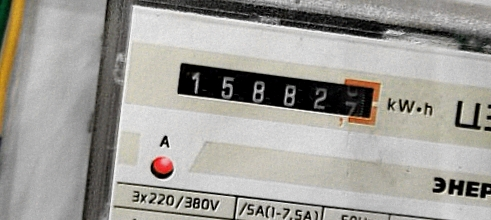1: (187, 69, 203, 96)
2: (310, 85, 330, 112)
5: (218, 74, 235, 101)
7: (341, 98, 358, 117)
8: (249, 78, 268, 105), (281, 82, 299, 109)
screen: (165, 50, 389, 136)
